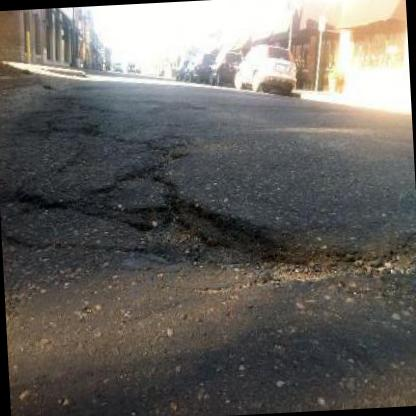pothole: (132, 183, 340, 292), (353, 241, 416, 279)
